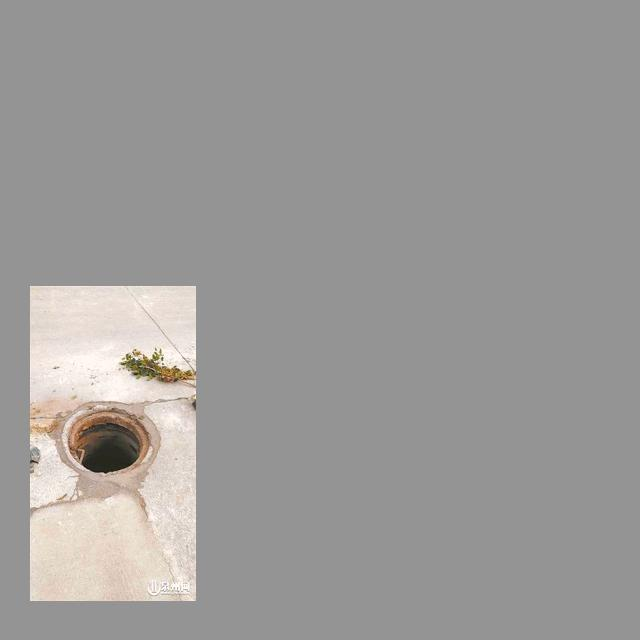lose: (51, 398, 163, 480)
